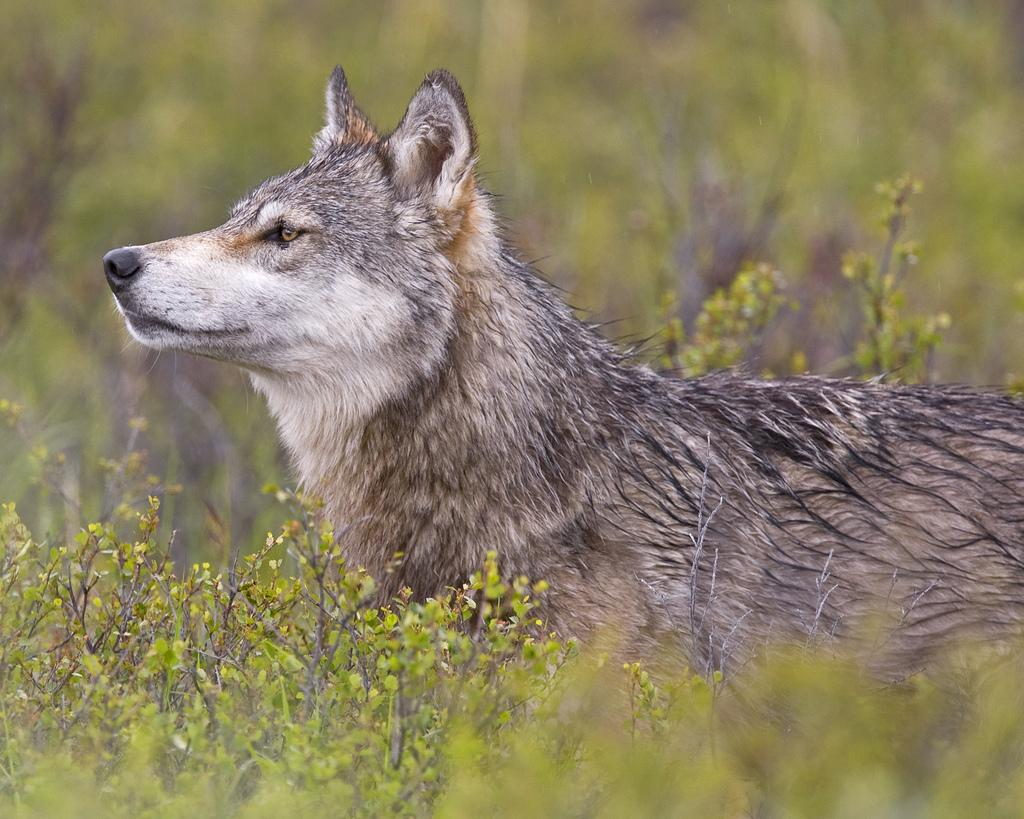Wolf: (103, 58, 1024, 739)
